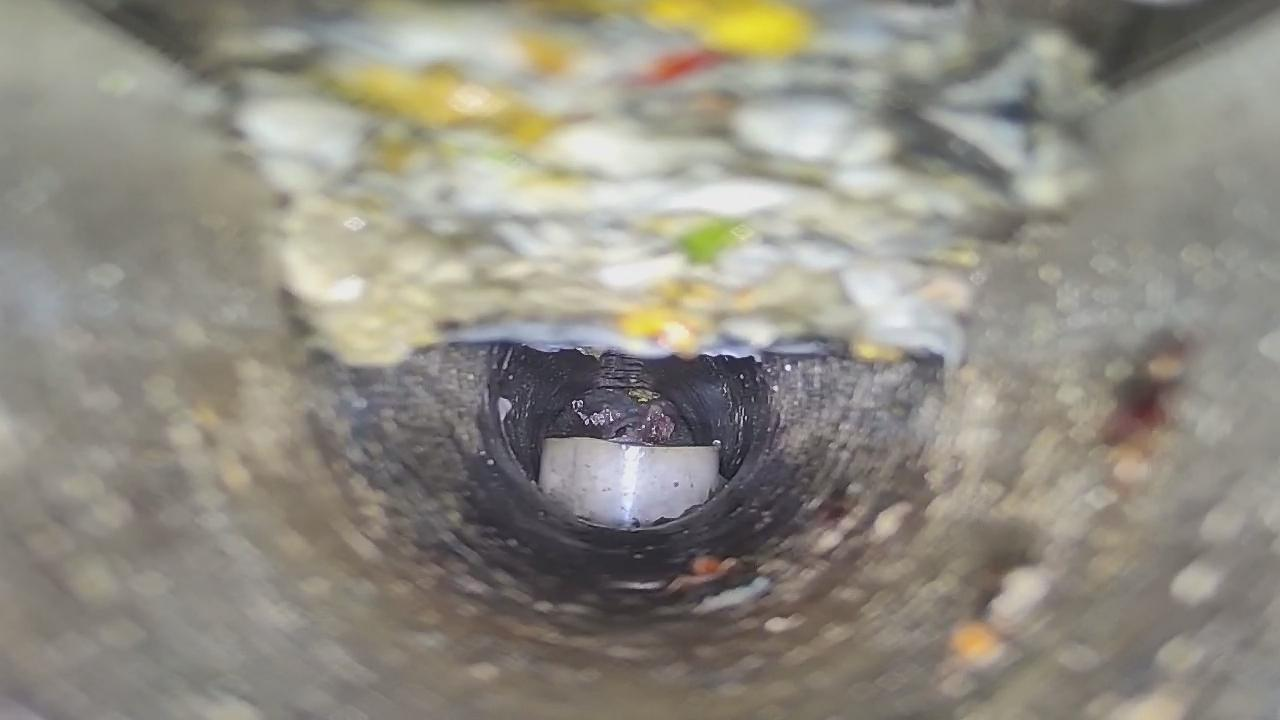CJ: (159, 1, 1102, 366)
ZGAJ: (540, 438, 724, 529)
